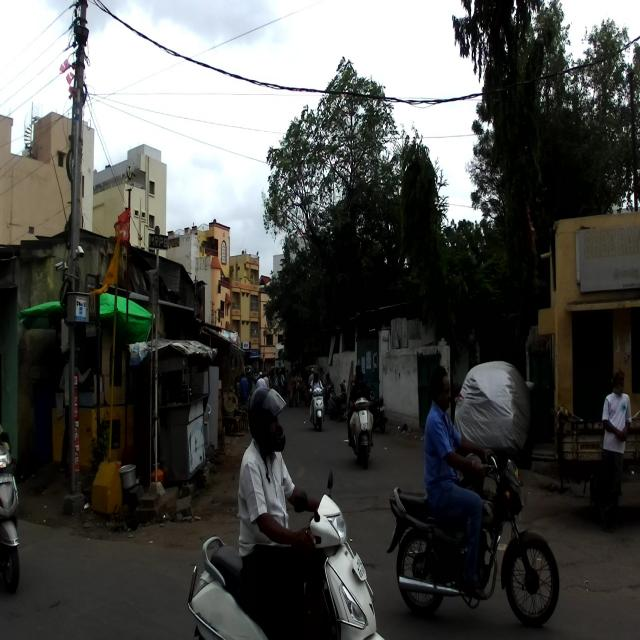car: (451, 359, 539, 458)
motorcycle: (385, 448, 561, 628)
scooter: (187, 468, 386, 640), (348, 383, 376, 467)
